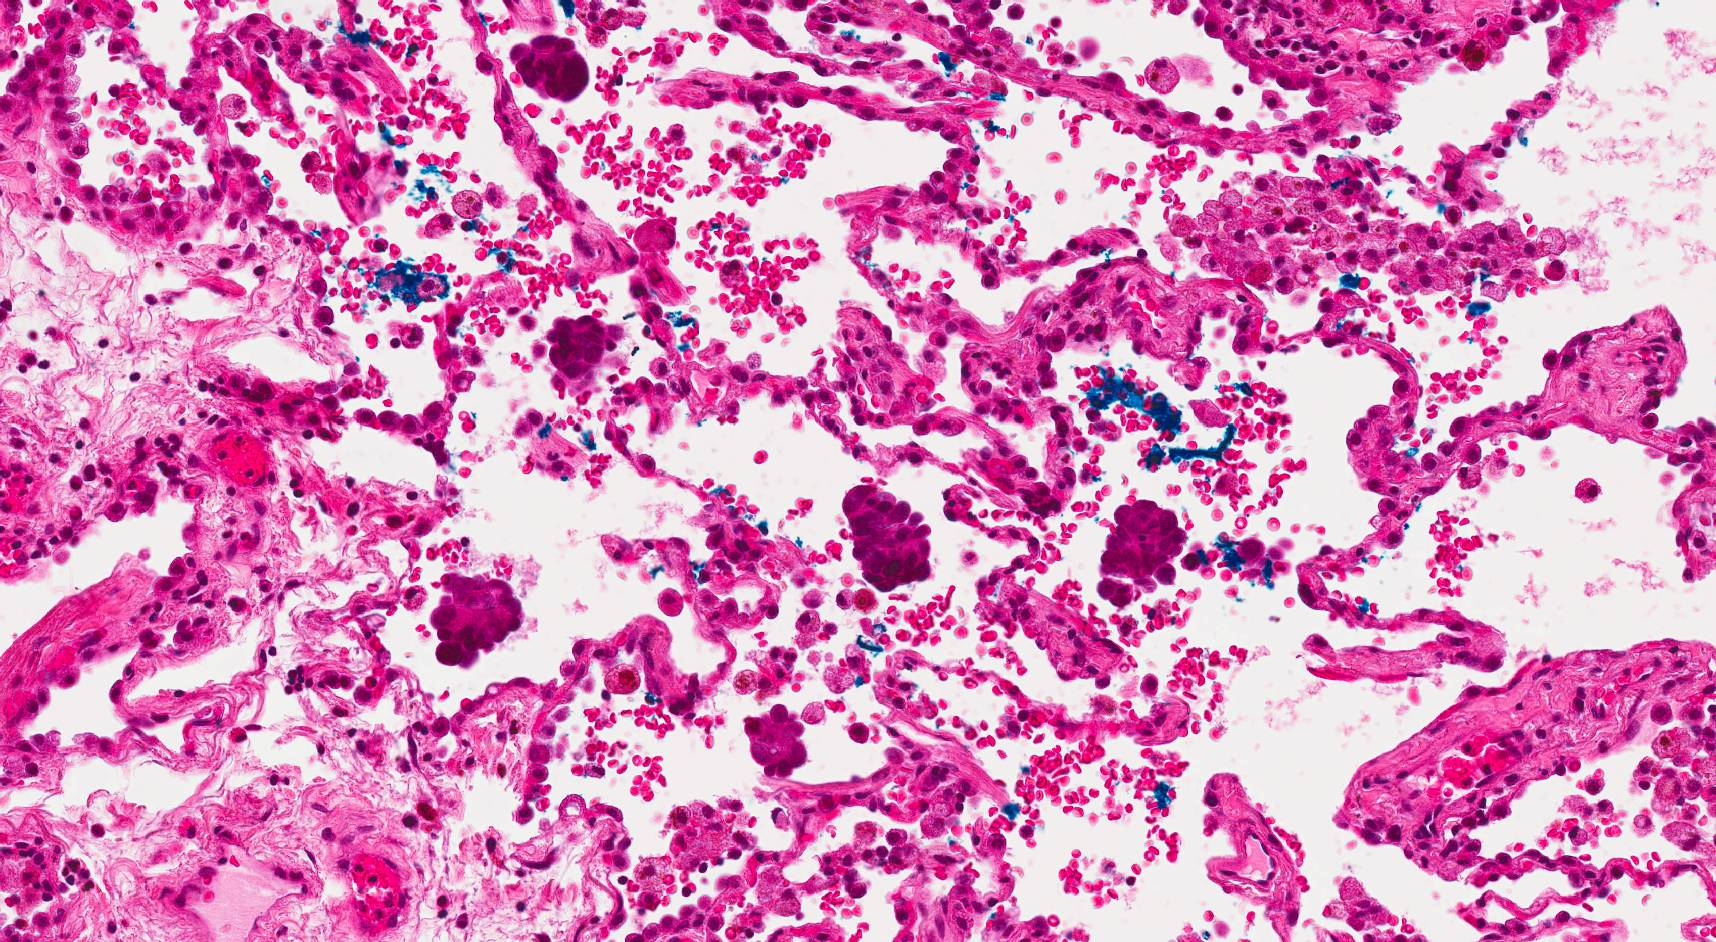stas: (841, 483, 935, 591), (1098, 501, 1187, 607), (431, 571, 527, 667), (509, 35, 591, 101), (546, 316, 625, 383), (744, 704, 813, 779)
